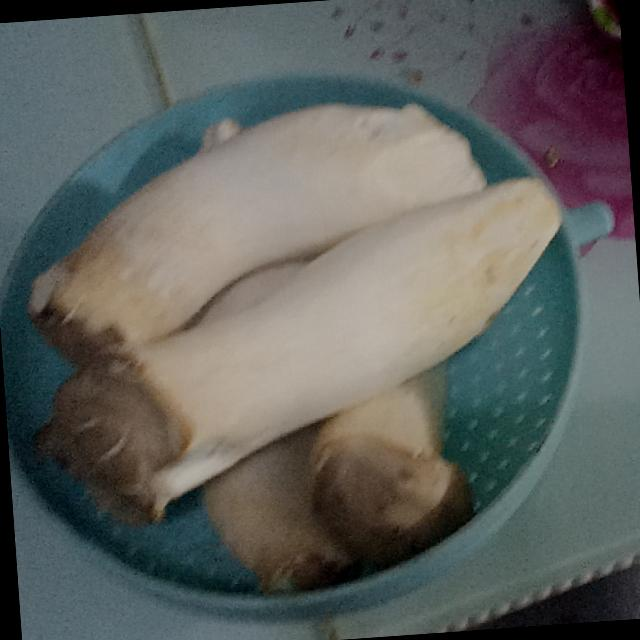Pleurotus eryngii: (16, 91, 586, 594)
